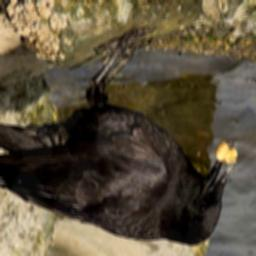Crow: (0, 26, 237, 248)
